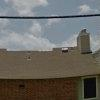Chimney: (73, 26, 98, 52)
